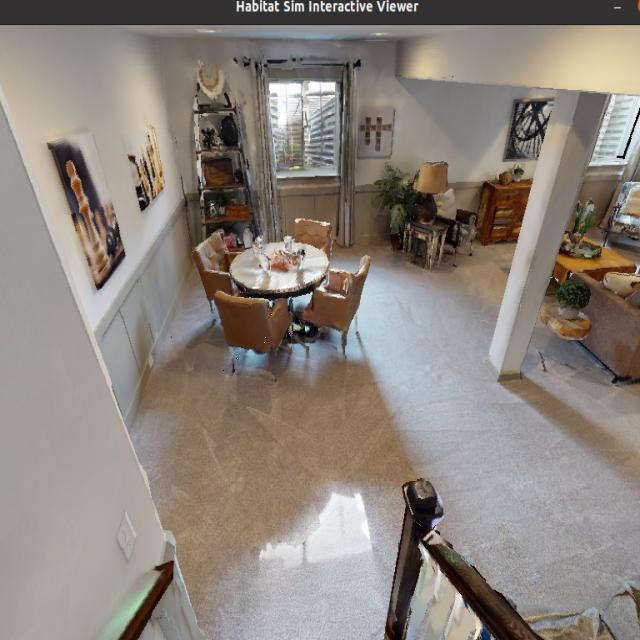chair: (300, 232, 379, 366), (212, 288, 312, 382), (196, 233, 243, 320)
table: (232, 228, 332, 332)
